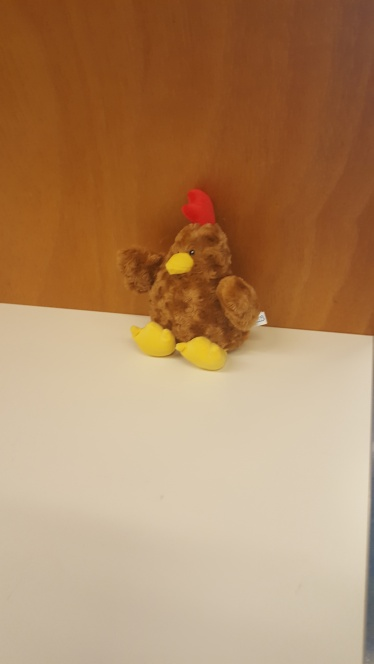chicken_front: (114, 187, 268, 371)
